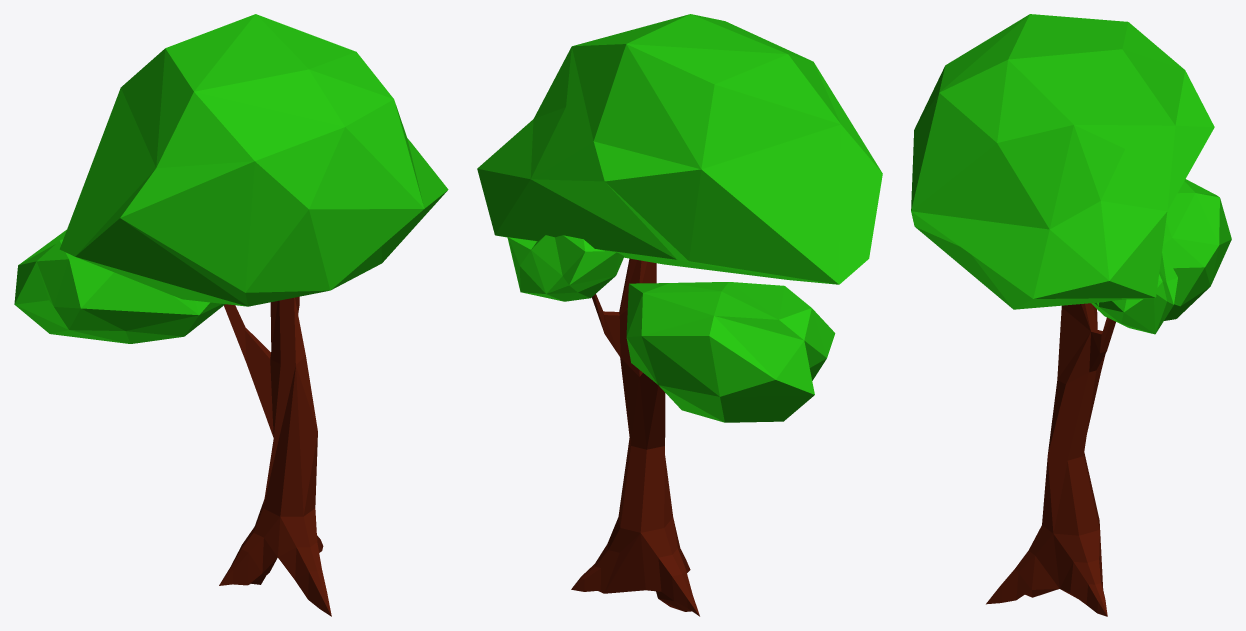
The model's file is Tree 2.FBX.
The picture shows the model from 3 angles, left to right: view 1: azimuth 30°, elevation 25°; view 2: azimuth 150°, elevation 25°; view 3: azimuth 270°, elevation 25°; orthographic projection. The views are drawn at different scales.
Parts seen in each view (by area): view 1: Hedra003; view 2: Hedra003; view 3: Hedra003.
Boxes of the visible parts, x1=… form: Hedra003: x1=14, y1=14, x2=448, y2=616; Hedra003: x1=477, y1=14, x2=882, y2=616; Hedra003: x1=911, y1=14, x2=1231, y2=616.
Bounding box in the file's own units: 147 × 217 × 114.
